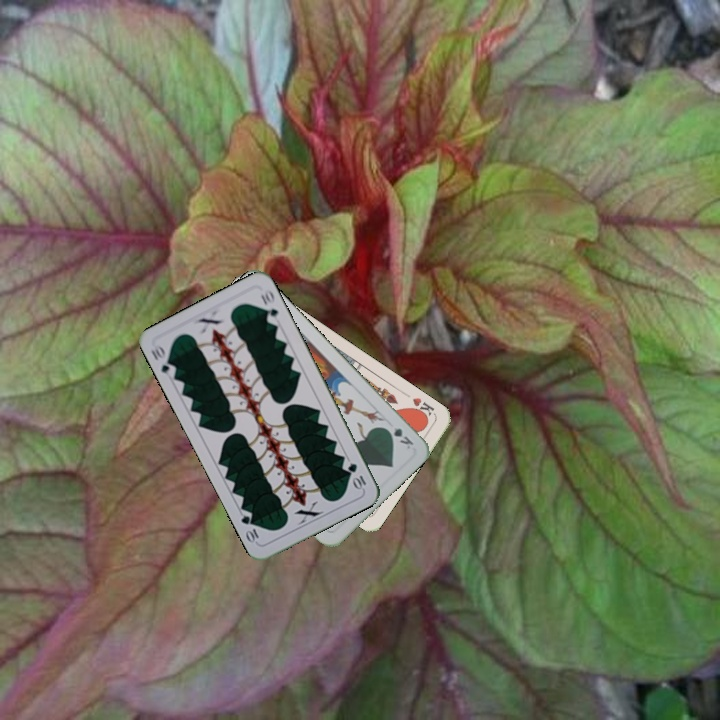G10: (147, 340, 179, 377), (344, 459, 369, 492)
GK: (381, 423, 416, 452)
HK: (407, 393, 438, 422)
